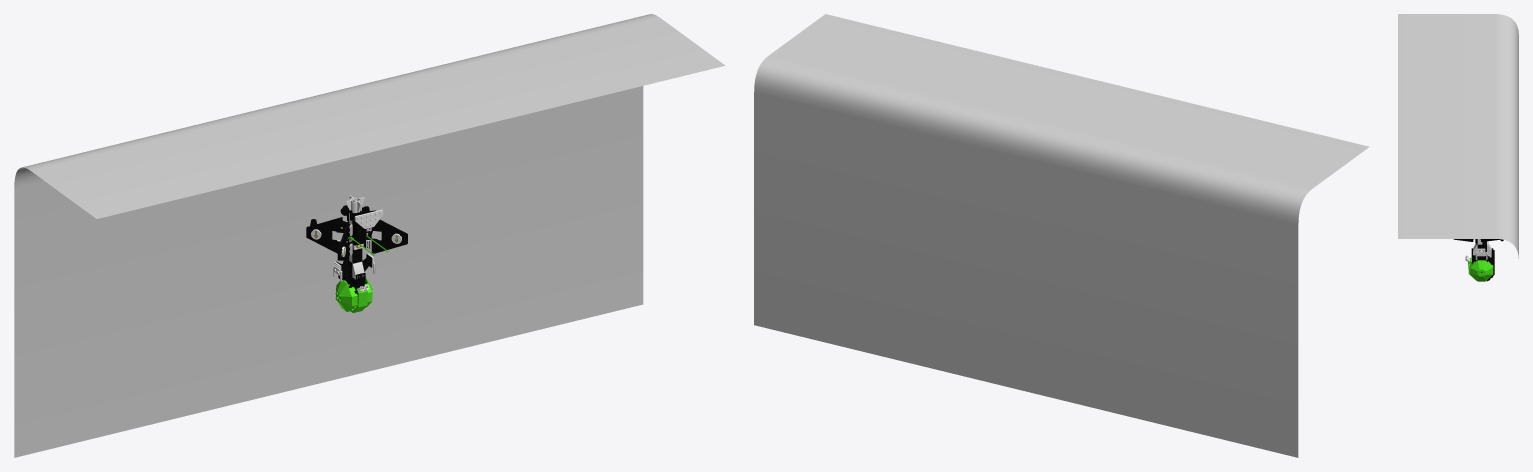
The model's file is 6887_allied_avenger_gi2.obj.
The picture shows the model from 3 angles, left to right: view 1: azimuth 30°, elevation 25°; view 2: azimuth 150°, elevation 25°; view 3: azimuth 270°, elevation 25°; orthographic projection. The views are drawn at different scales.
Parts seen in each view (by area): view 1: Background; view 2: Background; view 3: Background, Piece092.
Boxes of the visible parts, bbox=[...] form: Background: bbox=[14, 14, 725, 457]; Background: bbox=[754, 14, 1369, 457]; Background: bbox=[1398, 14, 1518, 258]; Piece092: bbox=[1470, 260, 1493, 281].
Bounding box in the file's own units: 1100 × 500 × 250.
Materials: 6 (2 with a texture image).
